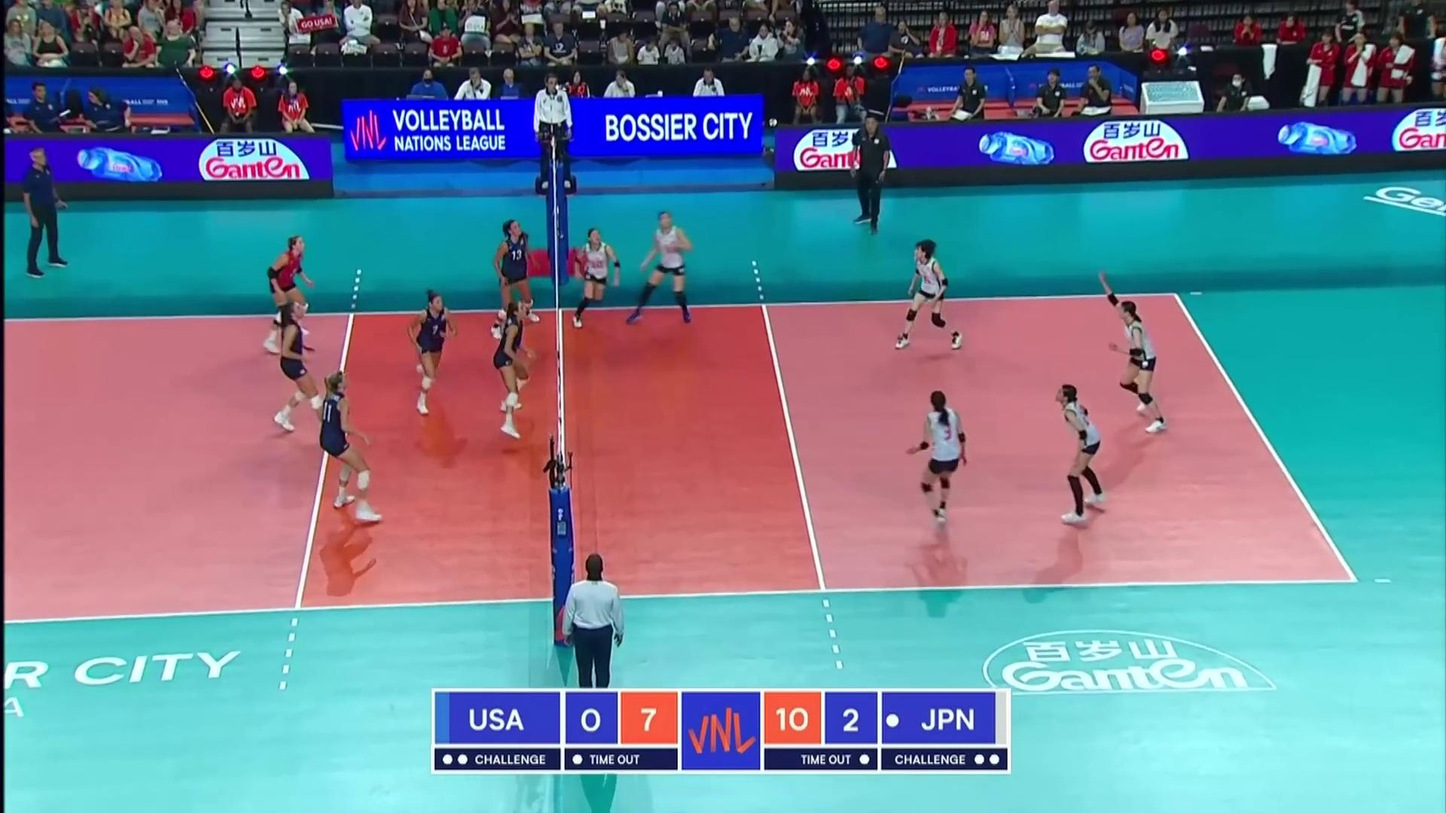player: (1100, 278, 1167, 431), (322, 370, 382, 520), (894, 243, 969, 352), (907, 391, 966, 526), (1053, 384, 1109, 522), (276, 302, 334, 432), (631, 210, 694, 326), (260, 234, 315, 352), (407, 290, 456, 414), (495, 300, 537, 440), (493, 219, 540, 336), (573, 226, 620, 329)
refree: (566, 554, 624, 690), (533, 75, 576, 190)
